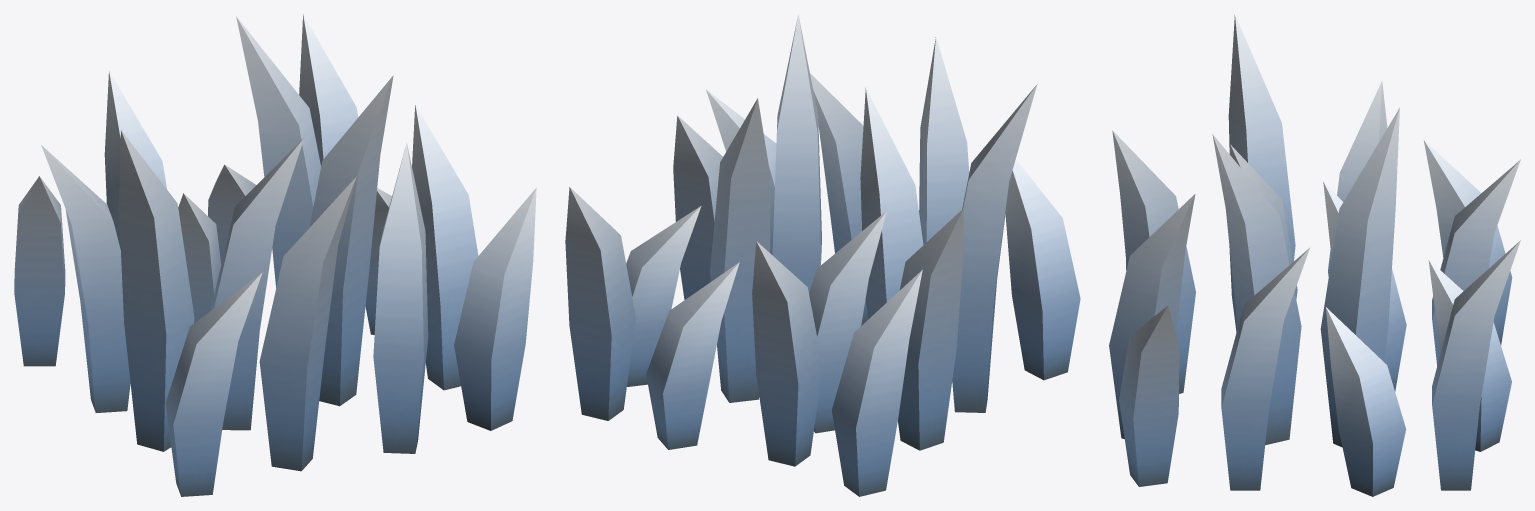
File: deco_winter_grassSnow.FBX
The picture shows the model from 3 angles, left to right: view 1: azimuth 30°, elevation 25°; view 2: azimuth 150°, elevation 25°; view 3: azimuth 270°, elevation 25°; orthographic projection. The views are drawn at different scales.
Visible parts, largest first — view 1: deco_winter_grassSnow; view 2: deco_winter_grassSnow; view 3: deco_winter_grassSnow.
Boxes of the visible parts, x1,y1,x2,y2 form: deco_winter_grassSnow: [14, 14, 536, 496]; deco_winter_grassSnow: [565, 15, 1080, 496]; deco_winter_grassSnow: [1109, 15, 1520, 496].
Bounding box in the file's own units: 1.97 × 1.66 × 1.96.
Materials: 1 (1 with a texture image).
